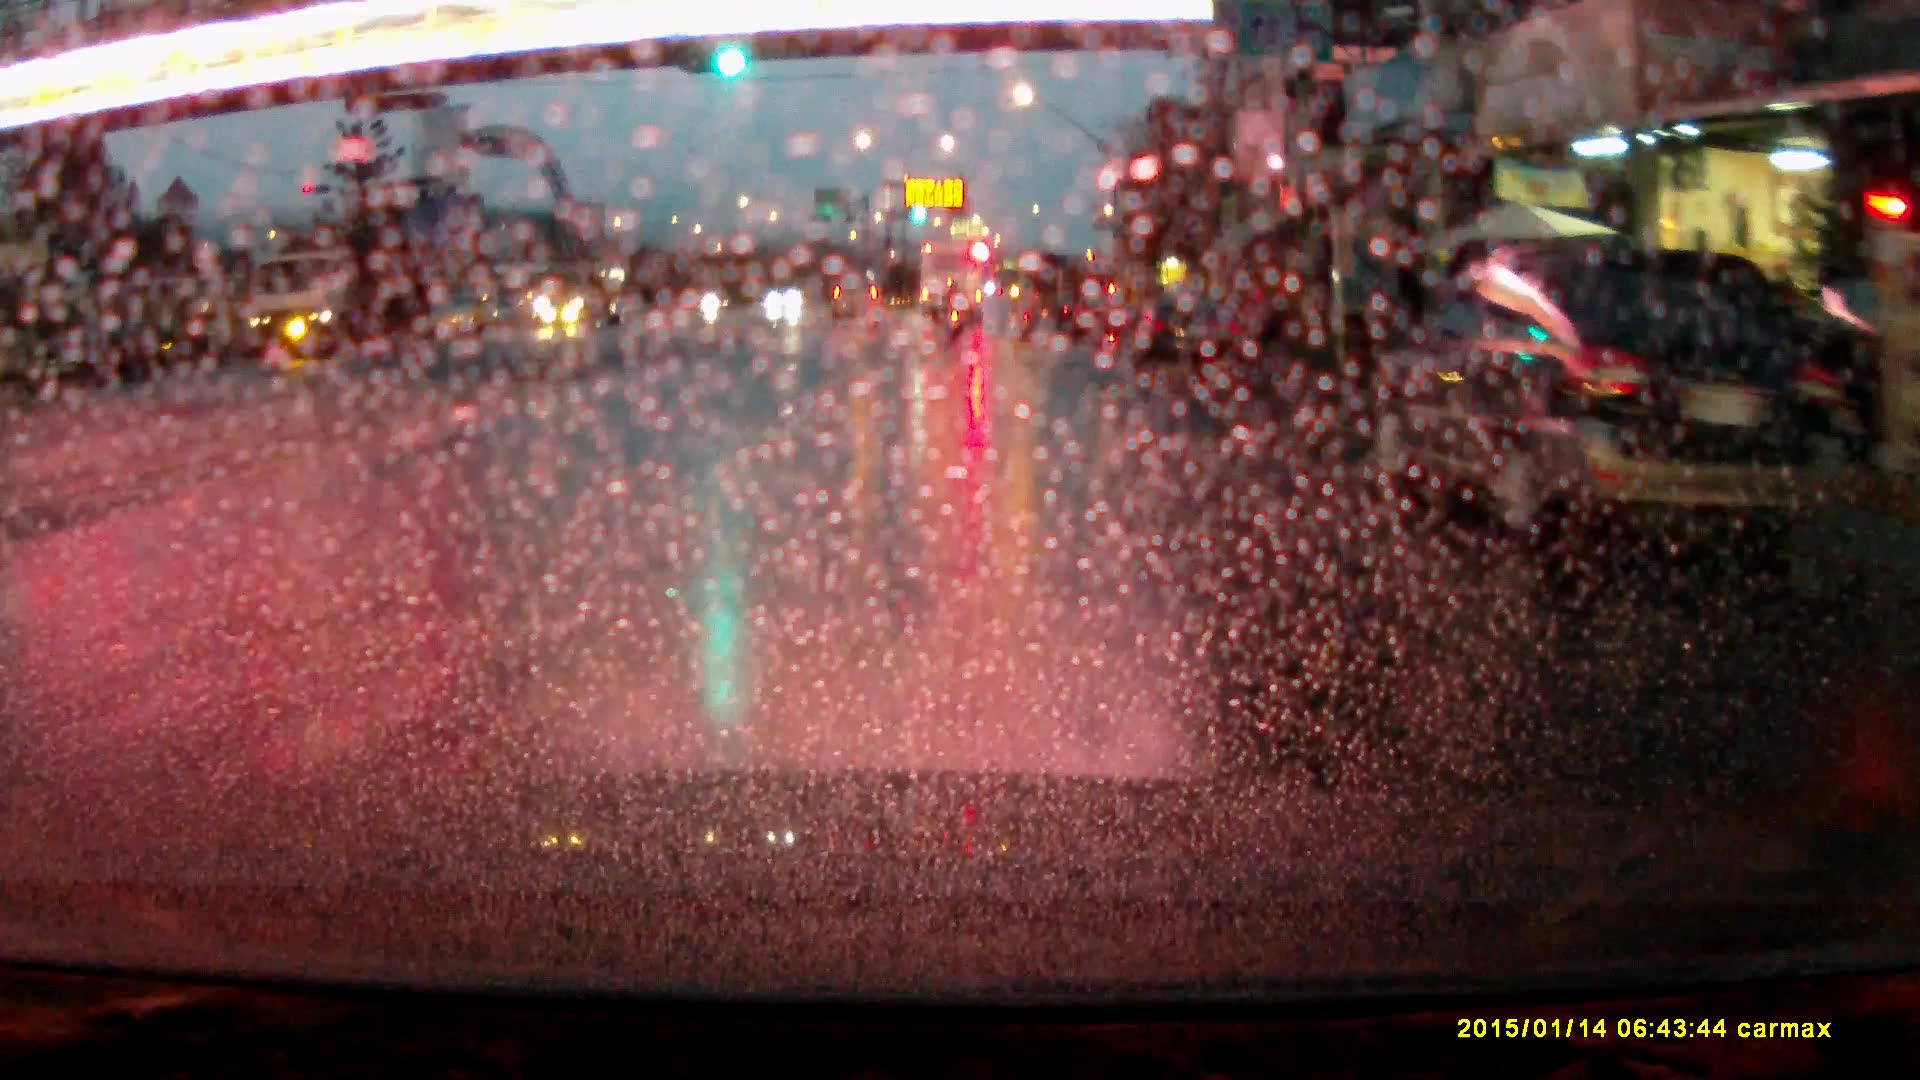rider: (945, 287, 966, 338)
vehicle: (1371, 244, 1812, 555), (244, 253, 424, 356), (1135, 292, 1244, 377), (918, 234, 987, 330), (539, 261, 634, 326), (1068, 295, 1135, 344), (830, 272, 886, 320)
